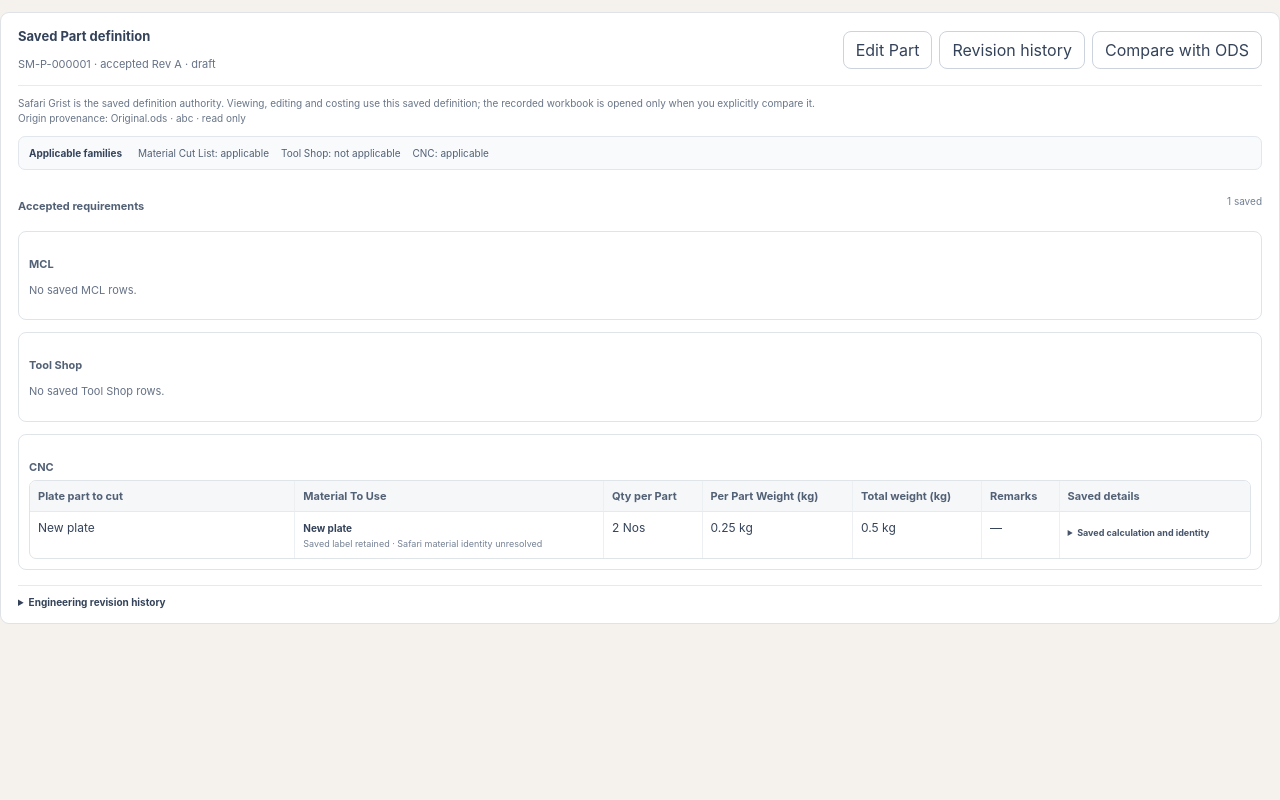
distinguishes a missing saved CNC total from a zero weight
expect the text "0.5 kg" is shown: met, box [853,512,982,558]
What coordinates should you click on to do the following:
click the heading "Saved calculation and identity"
I would click on:
 (1143, 532)
Its box is [1077,526,1209,538].
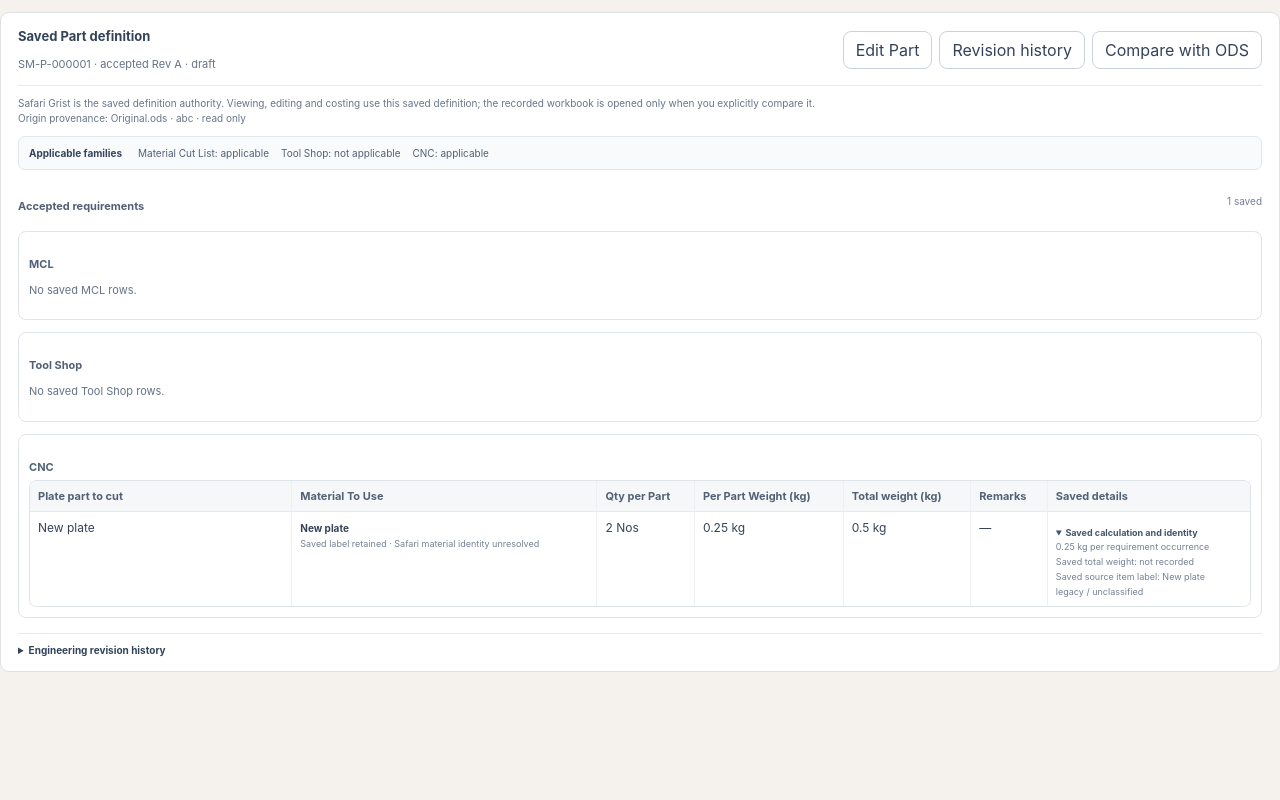
expect the text "Saved total weight: not recorded" is shown: met, box [1056,556,1194,567]
